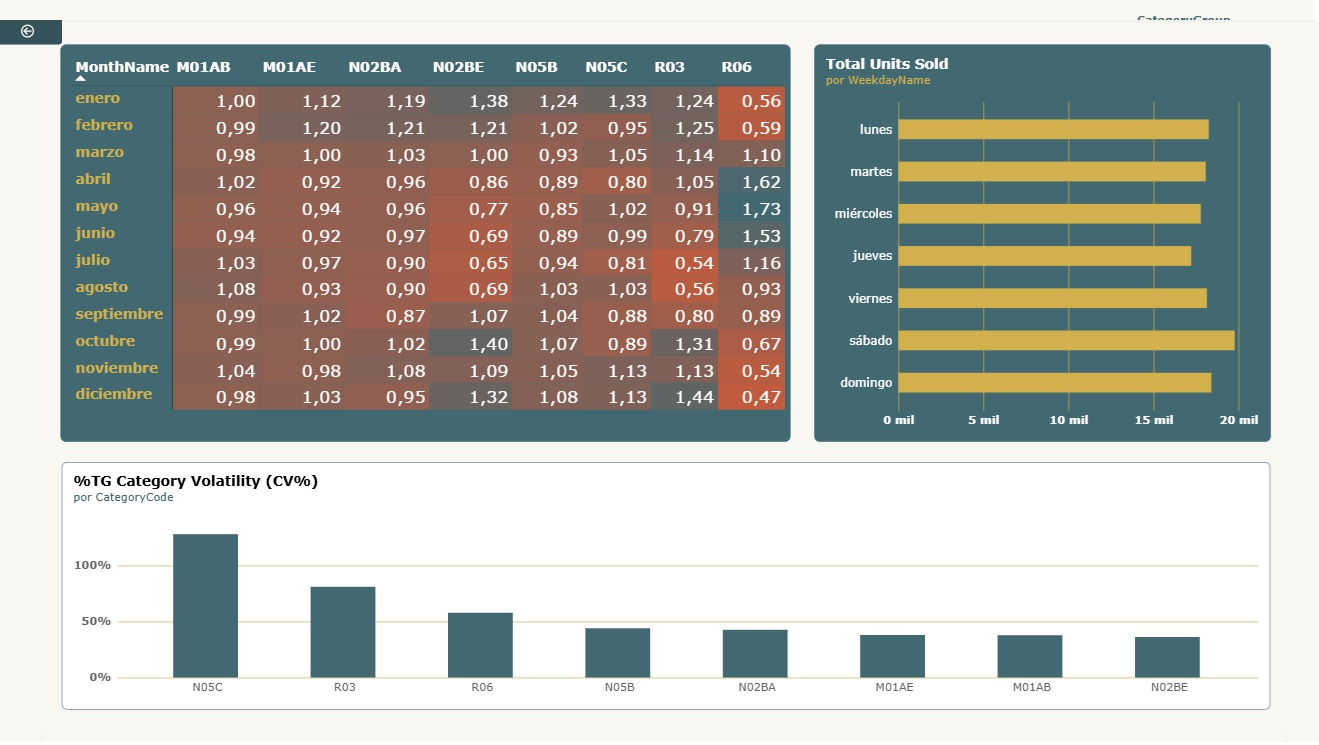

Layout of this report page (visuals, bound fields, positions):
{"tool":"powerbi","page":{"name":"Seasonality & Inventory Risk","canvas":[1920,1080],"ordinal":3},"visuals":[{"type":"pivotTable","fields":{"Columns":["DimCategory.CategoryCode"],"Rows":["DimDate.MonthName"],"Values":["Mesures.Seasonal Index"]},"box":[97.7,39.8,1056.8,575.5],"z":0},{"type":"clusteredBarChart","fields":{"Category":["DimDate.WeekdayName"],"Y":["Mesures.Total Units Sold"]},"box":[1188.9,39.8,660.5,575.5],"z":1000},{"type":"actionButton","box":[0,0,100,40],"z":2000},{"type":"columnChart","fields":{"Category":["DimCategory.CategoryCode"],"Y":["Divide(Mesures.Category Volatility (CV%), ScopedEval(Mesures.Category Volatility (CV%), []))"]},"box":[99.5,644.2,1749.9,358.3],"z":3000}]}

Visuals, with their boxes in screenshot pixels (x1, y1, x2, y2), scaled from the page's 1920x1080 canvas onto the 1319x745 screenshot:
pivotTable - DimCategory.CategoryCode x DimDate.MonthName: x1=67, y1=27, x2=793, y2=424
clusteredBarChart - DimDate.WeekdayName x Mesures.Total Units Sold: x1=817, y1=27, x2=1270, y2=424
actionButton: x1=0, y1=0, x2=69, y2=28
columnChart - DimCategory.CategoryCode x Divide(Mesures.Category Volatility (CV%), ScopedEval(Mesures.Category Volatility (CV%), [])): x1=68, y1=444, x2=1270, y2=692
